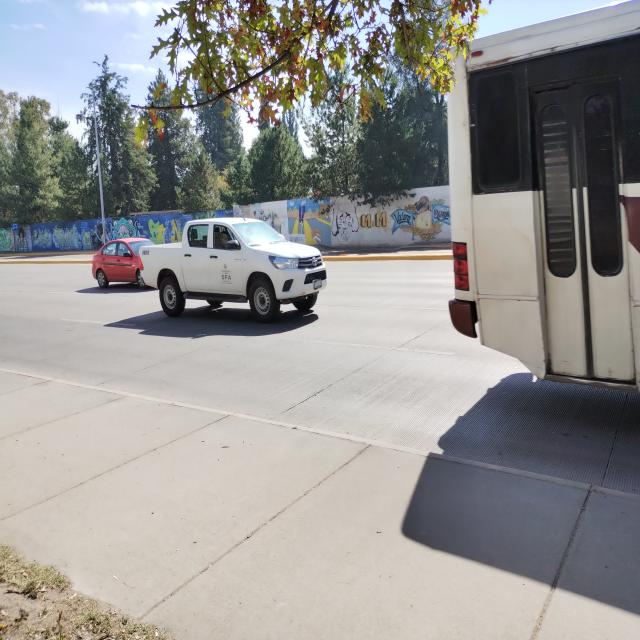Auto: (138, 215, 329, 321), (91, 236, 153, 291)
Autobus: (441, 0, 640, 394)
